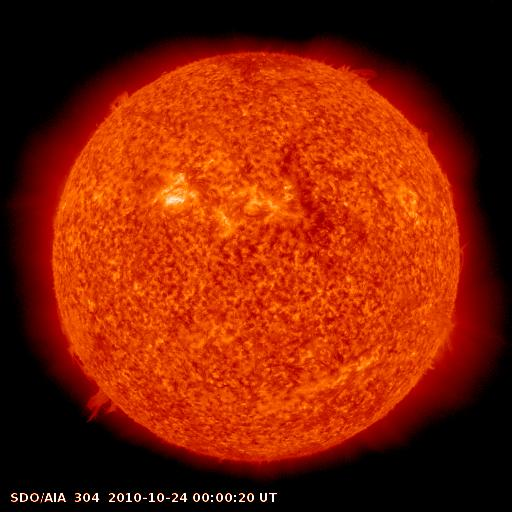prominence: (54, 344, 138, 428), (419, 310, 470, 378), (327, 49, 391, 94), (104, 84, 145, 122), (407, 118, 440, 154)
